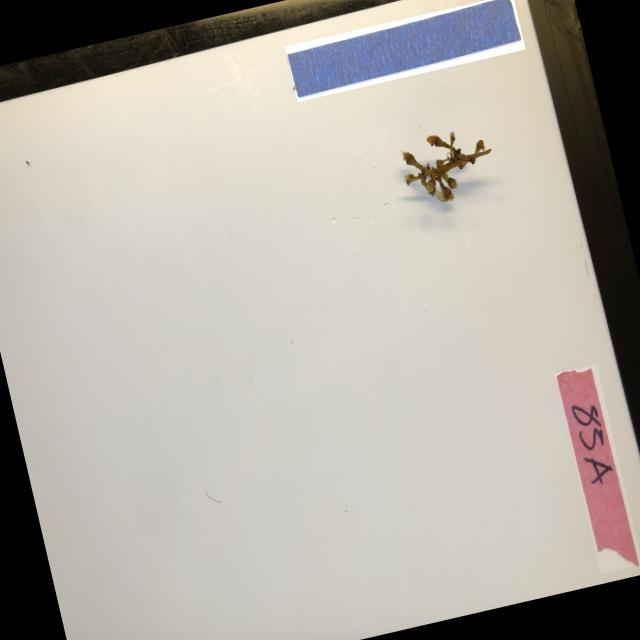index: (553, 364, 640, 574)
measure_label: (283, 0, 524, 101)
rachis_cluster: (393, 120, 503, 214)
